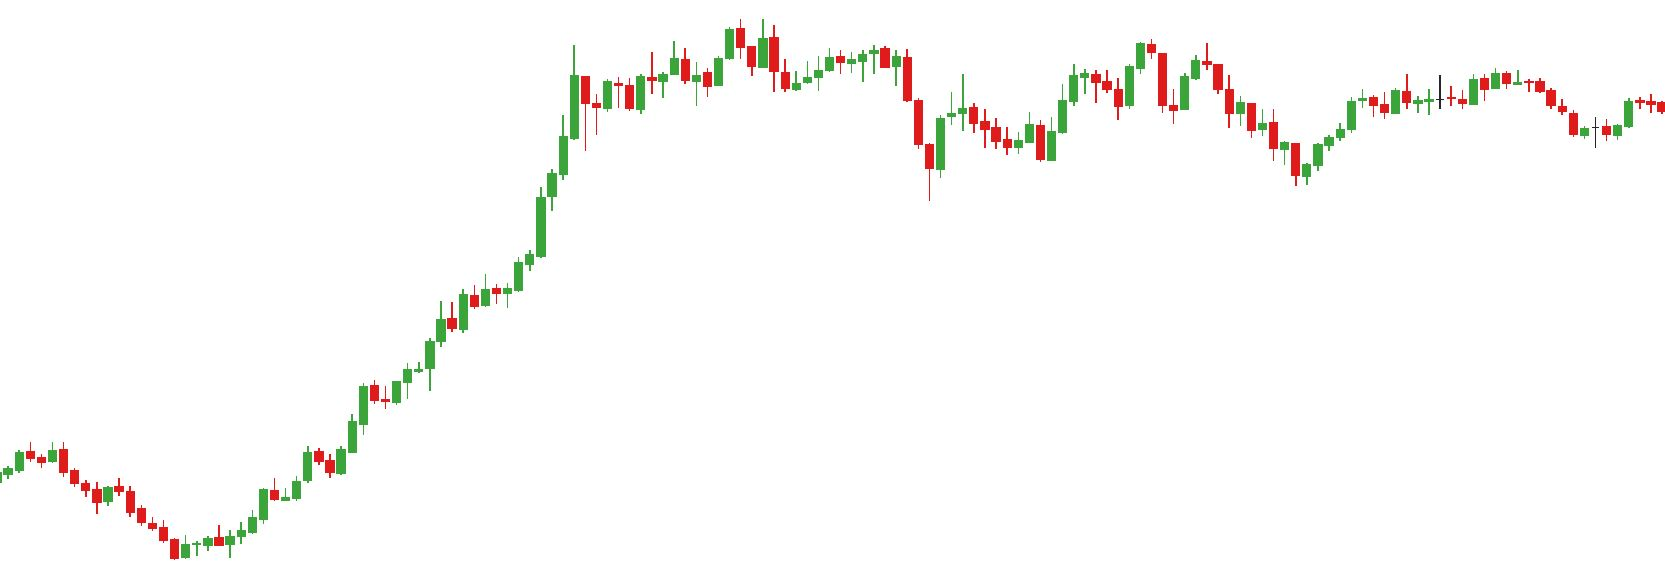sell: (668, 17, 748, 85)
